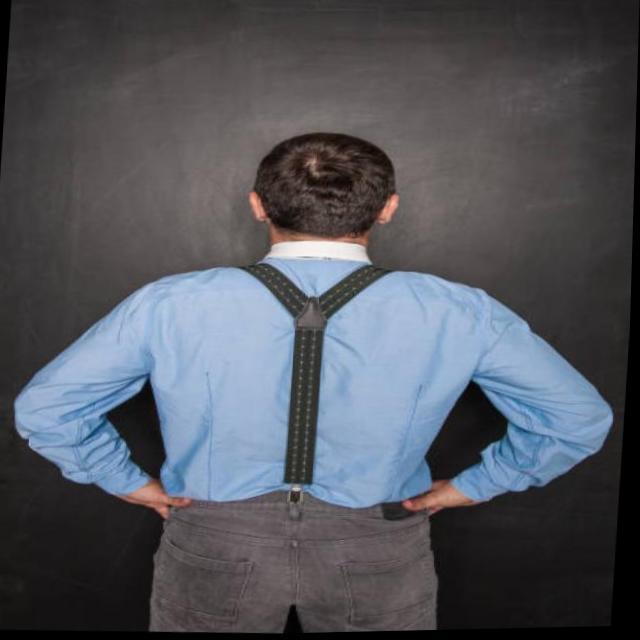no helmet: (247, 125, 413, 273)
